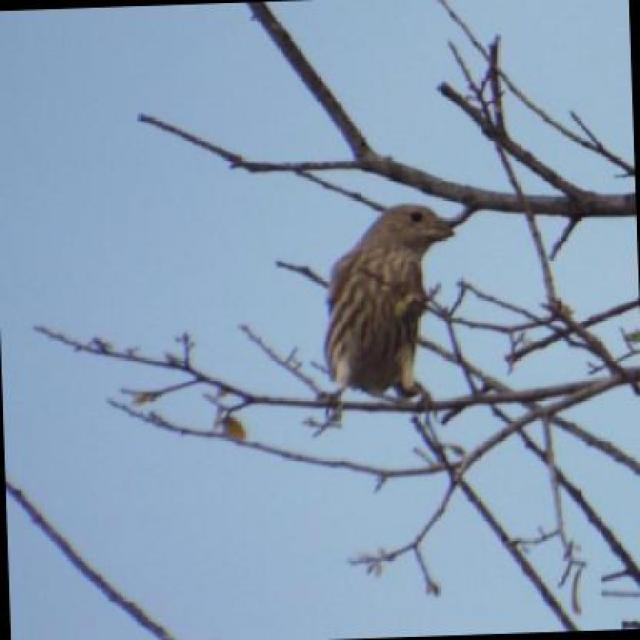Bird: (318, 196, 462, 403)
